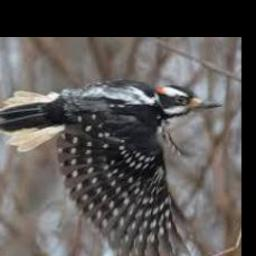Woodpecker: (0, 78, 221, 256)
